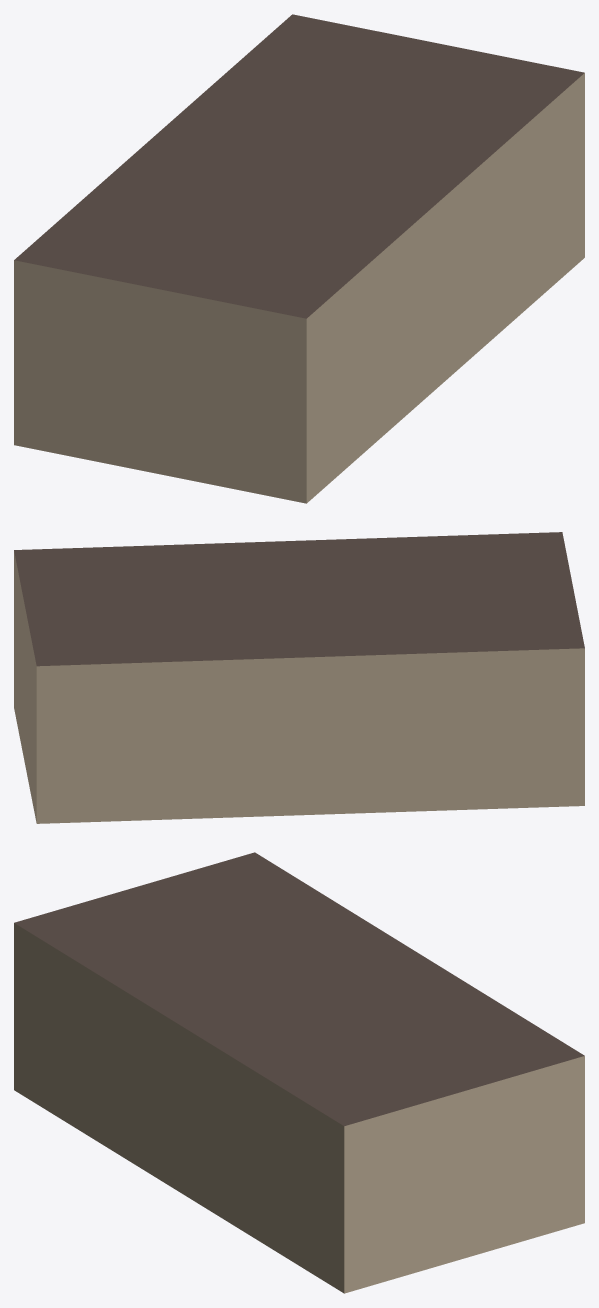
The picture shows the model from 3 angles, top to bottom: view 1: azimuth 30°, elevation 25°; view 2: azimuth 150°, elevation 25°; view 3: azimuth 270°, elevation 25°; orthographic projection. The views are drawn at different scales.
Visible parts, largest first — view 1: HP-w369237848; view 2: HP-w369237848; view 3: HP-w369237848.
Boxes of the visible parts, bbox=[...] form: HP-w369237848: bbox=[14, 14, 584, 503]; HP-w369237848: bbox=[14, 532, 584, 823]; HP-w369237848: bbox=[14, 852, 584, 1293].
Bounding box in the file's own units: 31.6 × 9 × 27.83.
